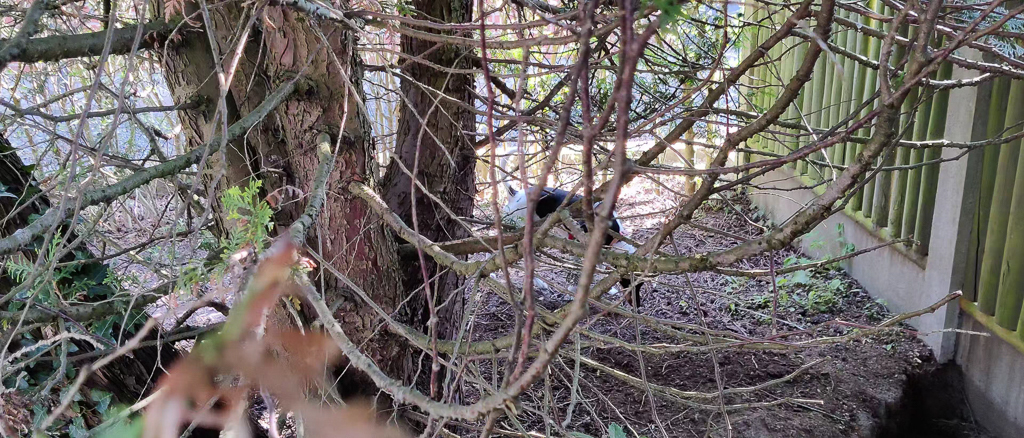Dog: (498, 144, 658, 316)
